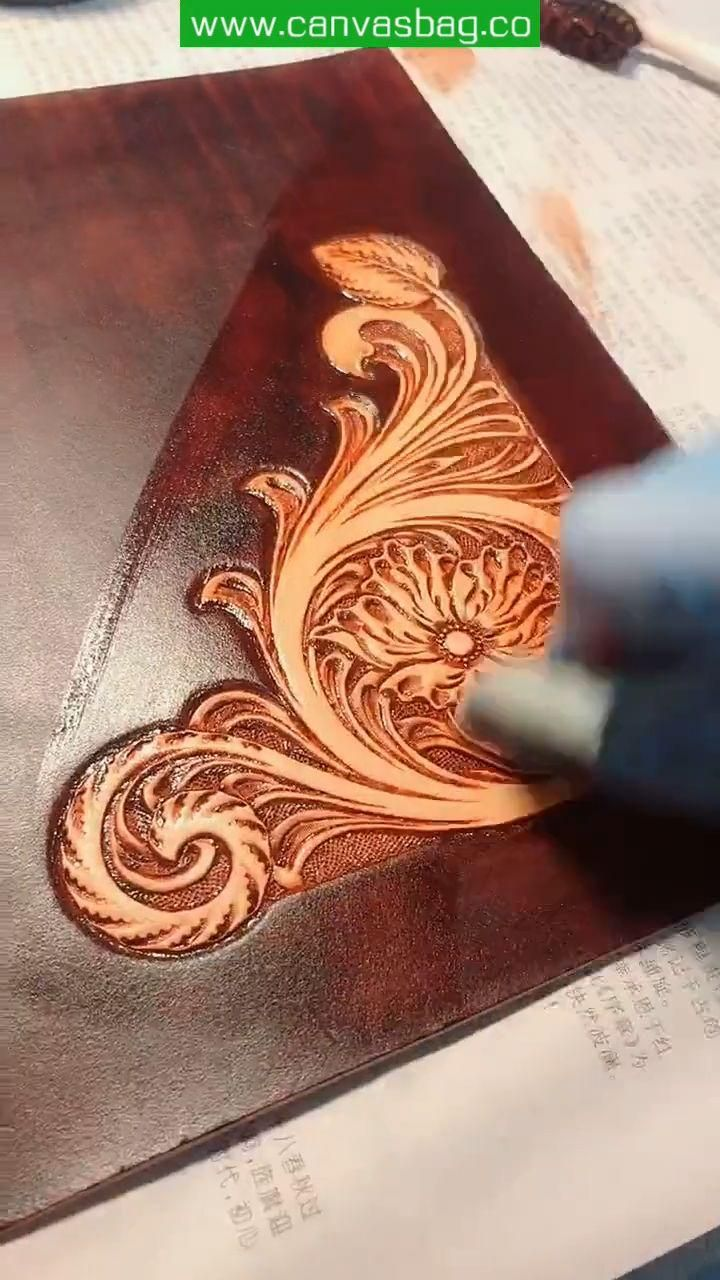cuero: (1, 38, 720, 1247)
